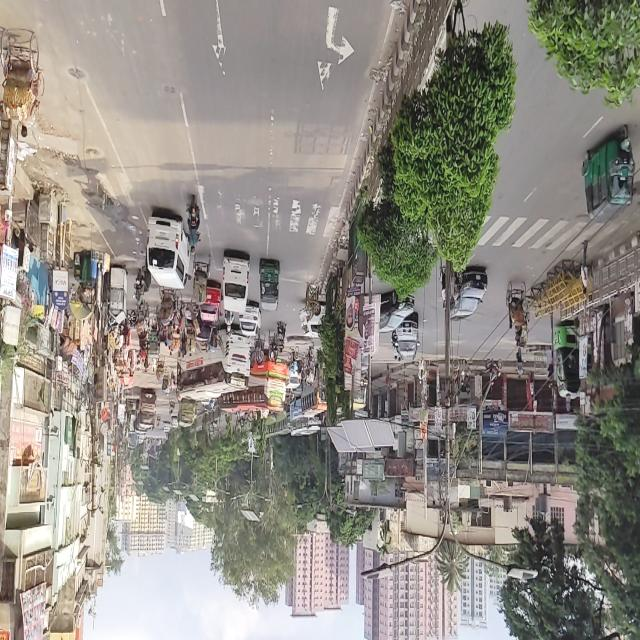black: (449, 270, 488, 322), (377, 291, 414, 334), (396, 315, 420, 363)
white: (148, 210, 192, 290), (222, 254, 250, 313), (300, 300, 336, 340), (241, 300, 262, 338)
